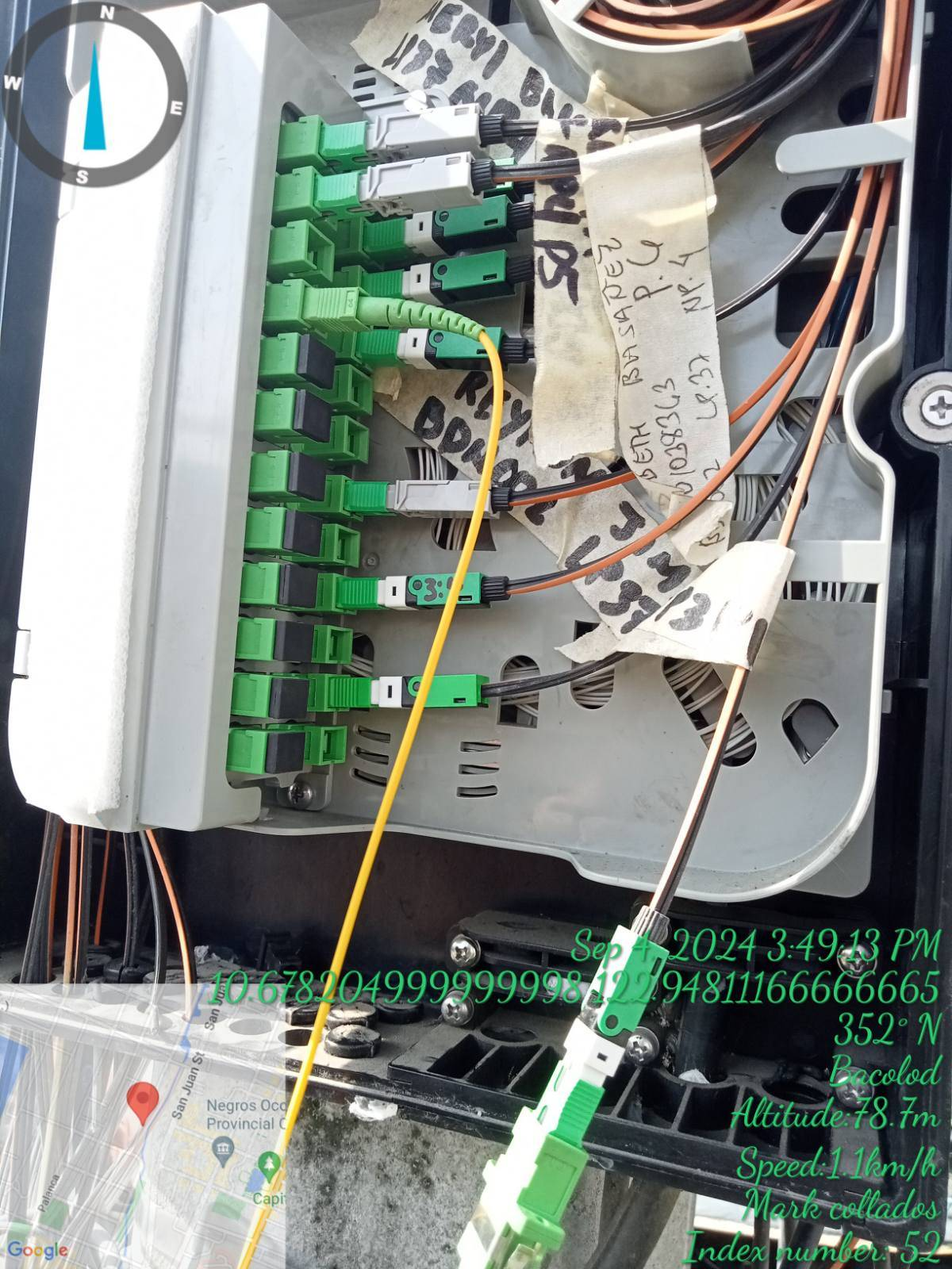no dust cap: (303, 223, 336, 280), (349, 367, 377, 416), (345, 416, 370, 464), (334, 525, 359, 567), (320, 728, 348, 765), (326, 626, 353, 664)
occupied: (305, 288, 489, 358), (316, 151, 494, 219), (321, 100, 503, 166), (369, 250, 527, 313), (362, 153, 520, 216), (362, 199, 519, 262), (362, 326, 521, 377), (335, 570, 508, 615), (323, 672, 496, 717), (345, 476, 516, 518)
vacant: (299, 331, 338, 392), (296, 386, 335, 447), (288, 445, 327, 505), (284, 508, 324, 558), (282, 564, 318, 610), (278, 618, 314, 664), (275, 680, 309, 719), (272, 733, 306, 772)
